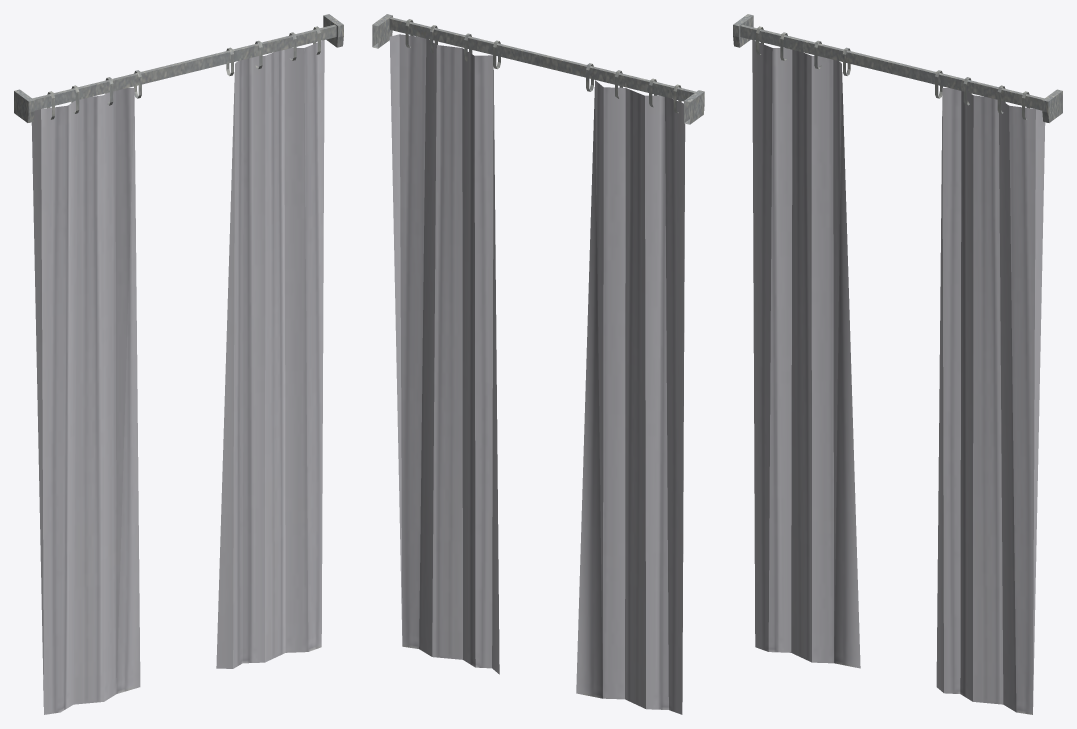
The model's file is Cortinas.fbx.
3 views of the same model, side by side, from view 1: azimuth 30°, elevation 25°; view 2: azimuth 150°, elevation 25°; view 3: azimuth 330°, elevation 25° (orthographic).
Parts seen in each view (by area): view 1: Ventana.001; view 2: Ventana.001; view 3: Ventana.001.
Boxes of the visible parts, x1,y1,x2,y2 form: Ventana.001: (14, 14, 343, 714); Ventana.001: (372, 14, 704, 714); Ventana.001: (733, 14, 1062, 714).
Bounding box in the file's own units: 92.99 × 175 × 7.55.
1 material, 1 textured.
